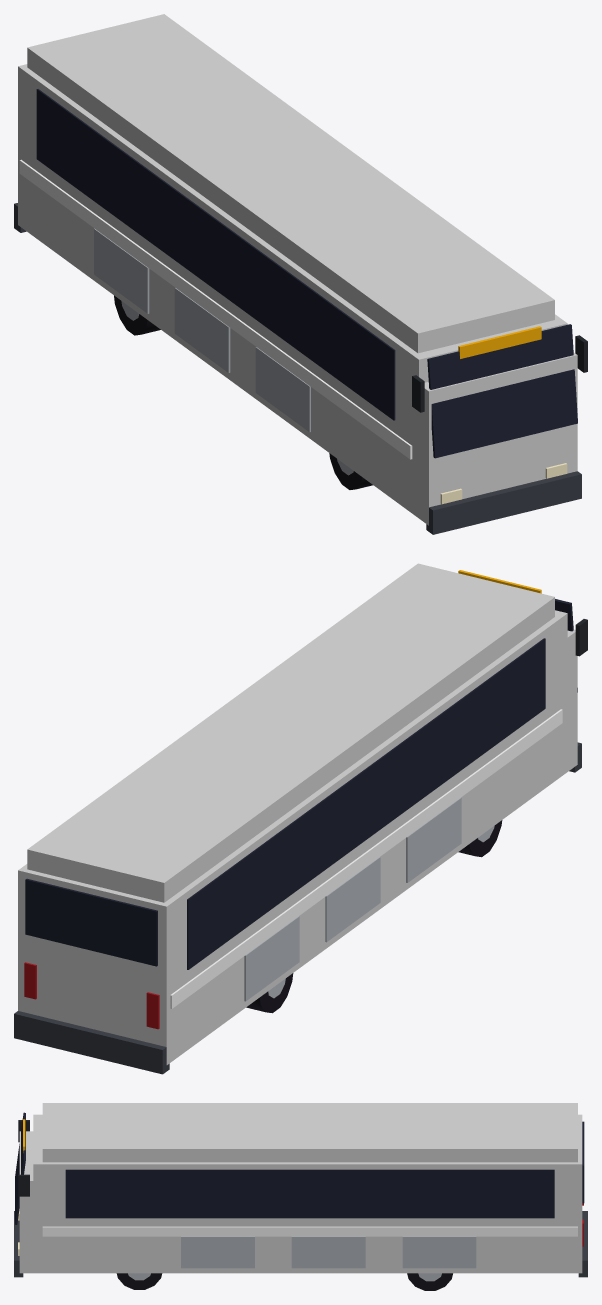
File: bus.glb
The picture shows the model from 3 angles, top to bottom: view 1: azimuth 30°, elevation 25°; view 2: azimuth 150°, elevation 25°; view 3: azimuth 270°, elevation 25°; orthographic projection. The views are drawn at different scales.
Parts seen in each view (by area): view 1: paint, fixed, paint2; view 2: paint, fixed, paint2; view 3: paint, fixed, paint2.
Part boxes in pixels (<box>): paint: <box>18,14,577,525</box>; fixed: <box>14,89,587,534</box>; paint2: <box>19,159,412,459</box>; paint: <box>18,563,577,1064</box>; fixed: <box>14,570,587,1074</box>; paint2: <box>170,709,562,1008</box>; paint: <box>19,1103,582,1273</box>; fixed: <box>14,1112,587,1290</box>; paint2: <box>42,1226,577,1236</box>.
Bounding box in the file's own units: 2.87 × 3.36 × 12.44.
